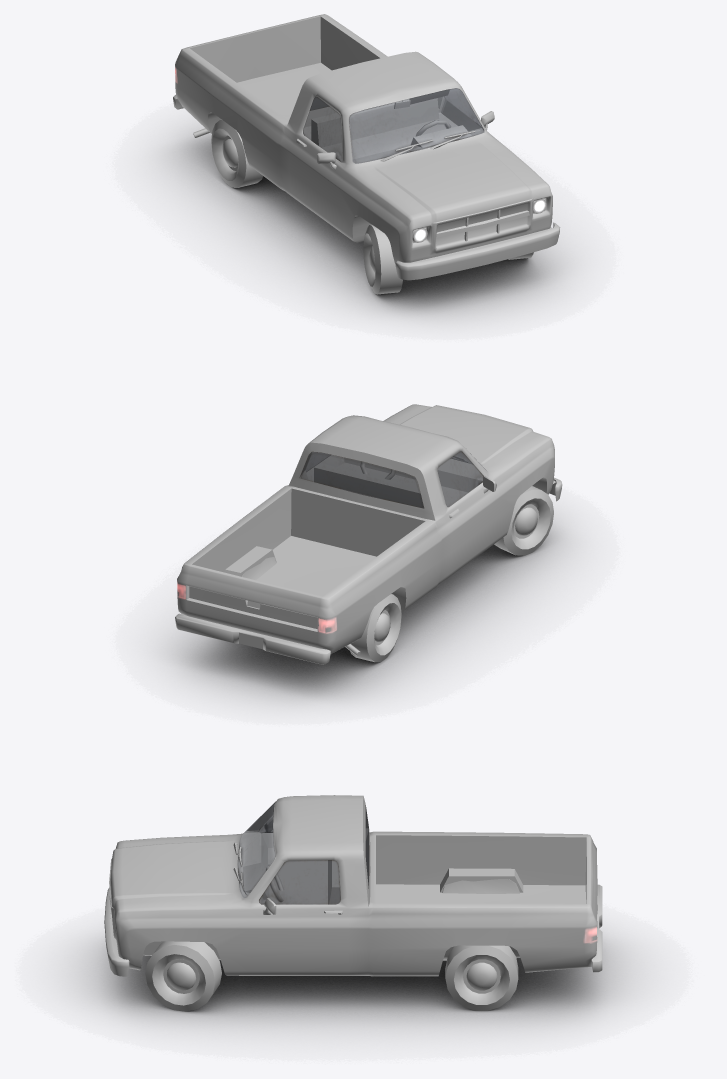
3 renders of one model, top to bottom at view 1: azimuth 30°, elevation 25°; view 2: azimuth 150°, elevation 25°; view 3: azimuth 270°, elevation 25°, orthographic. The views are drawn at different scales.
Visible parts, largest first — view 1: Object001_Material #33_0, Plane001, Object002_Material #34_0; view 2: Object001_Material #33_0, Plane001, Object002_Material #34_0; view 3: Object001_Material #33_0, Plane001, Object002_Material #34_0.
Part boxes in pixels (<box>): Object001_Material #33_0: <box>173,14,560,294</box>; Plane001: <box>169,127,562,316</box>; Object002_Material #34_0: <box>303,88,484,163</box>; Object001_Material #33_0: <box>175,404,562,664</box>; Plane001: <box>171,522,564,700</box>; Object002_Material #34_0: <box>299,451,486,508</box>; Object001_Material #33_0: <box>104,795,602,1011</box>; Plane001: <box>83,938,623,1025</box>; Object002_Material #34_0: <box>237,802,369,904</box>.
Bounding box in the file's own units: 185 × 71.44 × 297.
